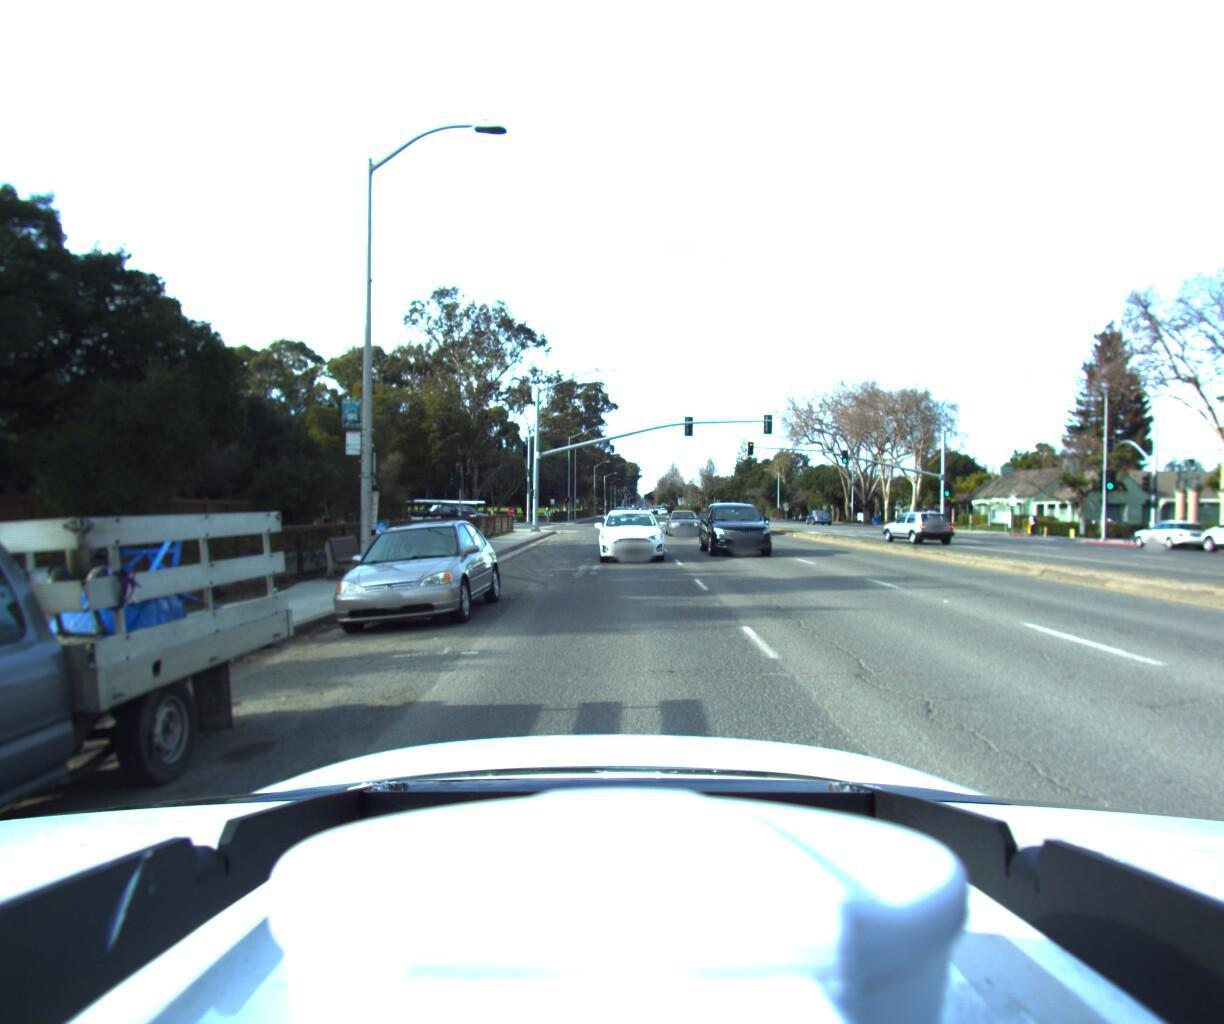bicycle: (542, 507, 553, 524)
car: (310, 517, 506, 639), (699, 498, 779, 560), (597, 506, 667, 564), (1124, 517, 1213, 553), (868, 508, 948, 542), (401, 498, 486, 527), (1189, 513, 1224, 557), (665, 505, 708, 537), (607, 502, 638, 532)
